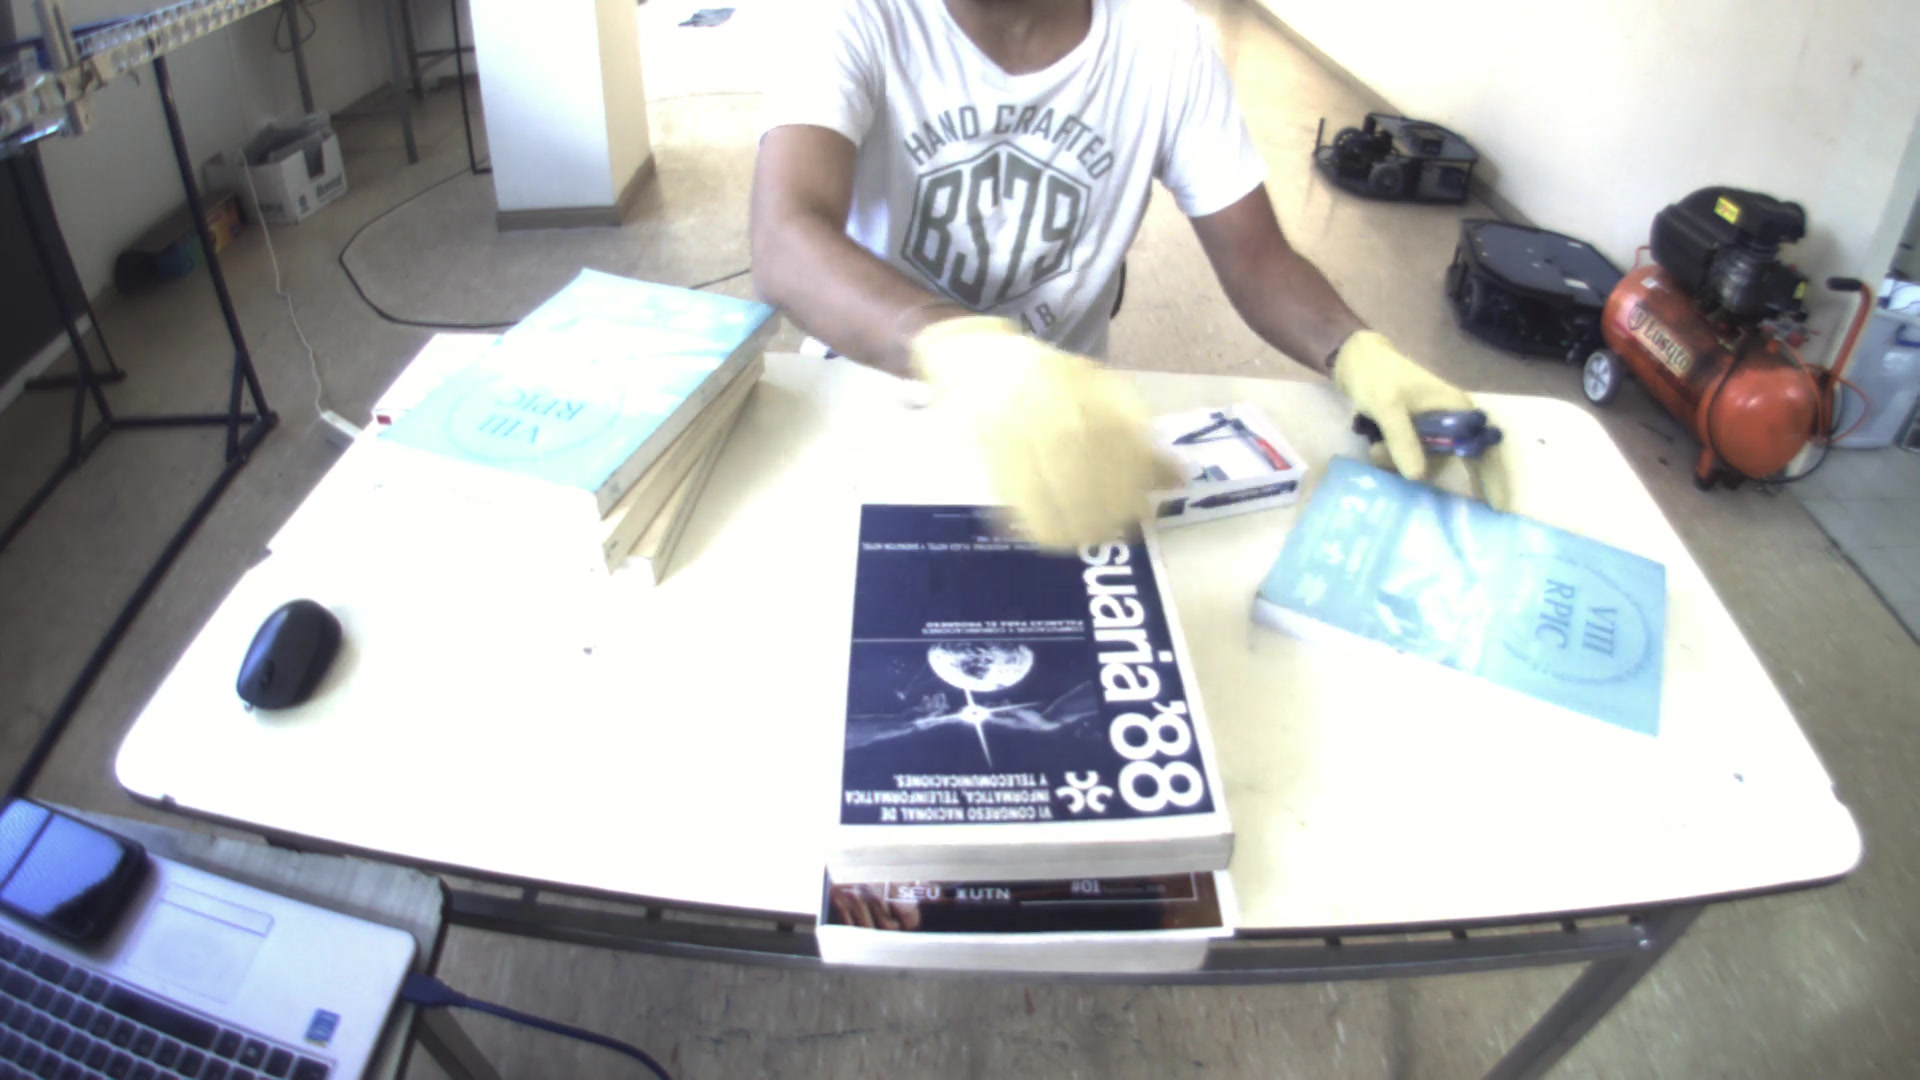hand: (903, 305, 1209, 556), (1324, 326, 1514, 516)
